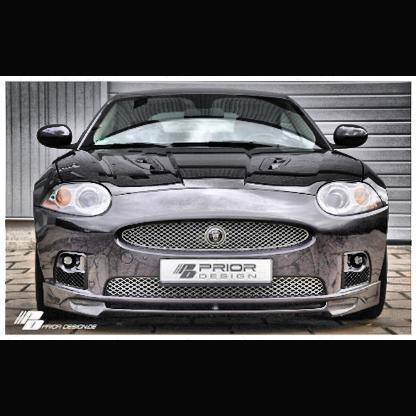Jaguar XK XKR 2012: (34, 89, 391, 322)
